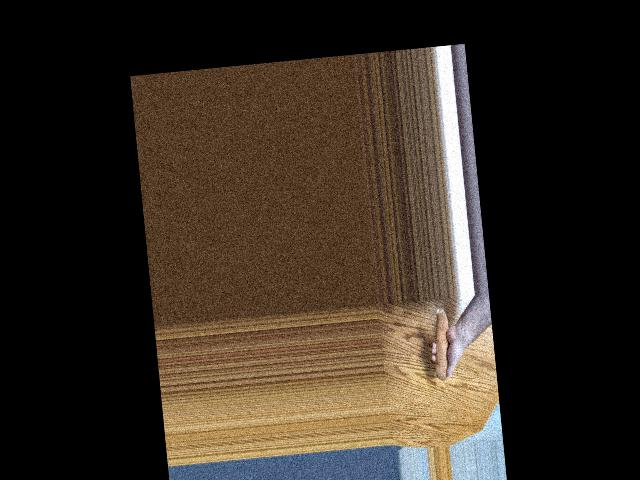sweet_potato: (428, 305, 459, 381)
